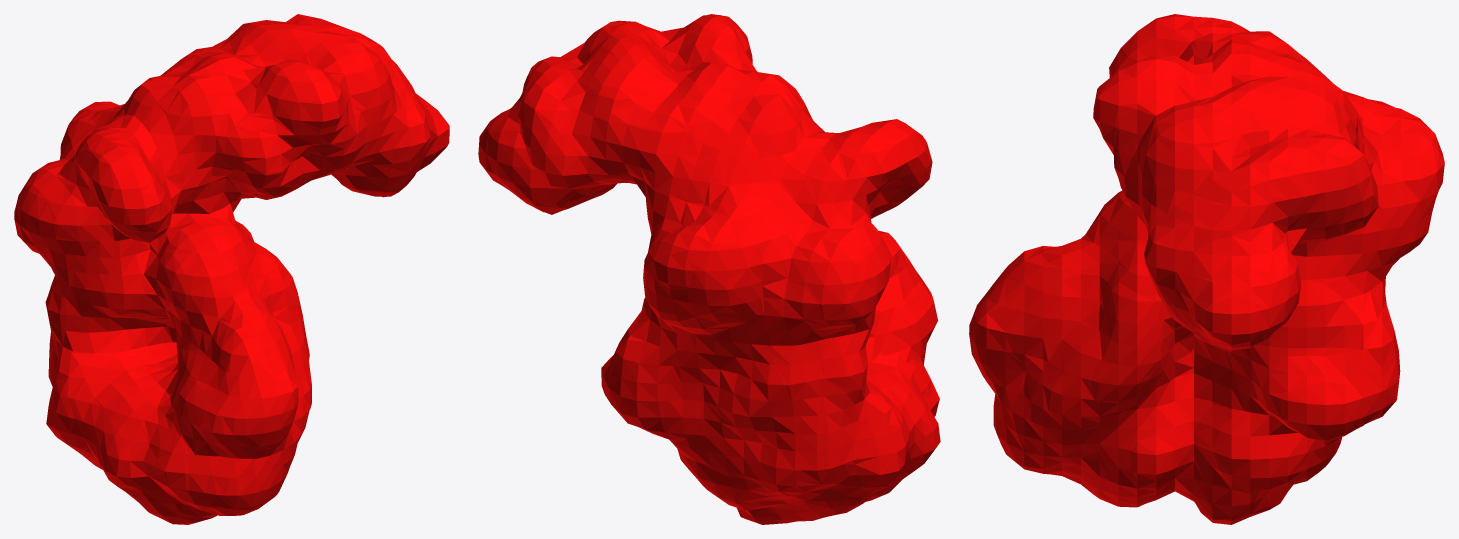
File: ydiU_coarse.dae
3 views of the same model, side by side, from view 1: azimuth 30°, elevation 25°; view 2: azimuth 150°, elevation 25°; view 3: azimuth 270°, elevation 25° (orthographic). The views are drawn at different scales.
Parts seen in each view (by area): view 1: ydiU; view 2: ydiU; view 3: ydiU.
Part boxes in pixels (box(x1,y1,x2,y2)): ydiU: box(14, 14, 449, 524); ydiU: box(478, 14, 940, 524); ydiU: box(969, 14, 1444, 524).
Size of the model in its own units: 76.47 by 77.96 by 65.9.
